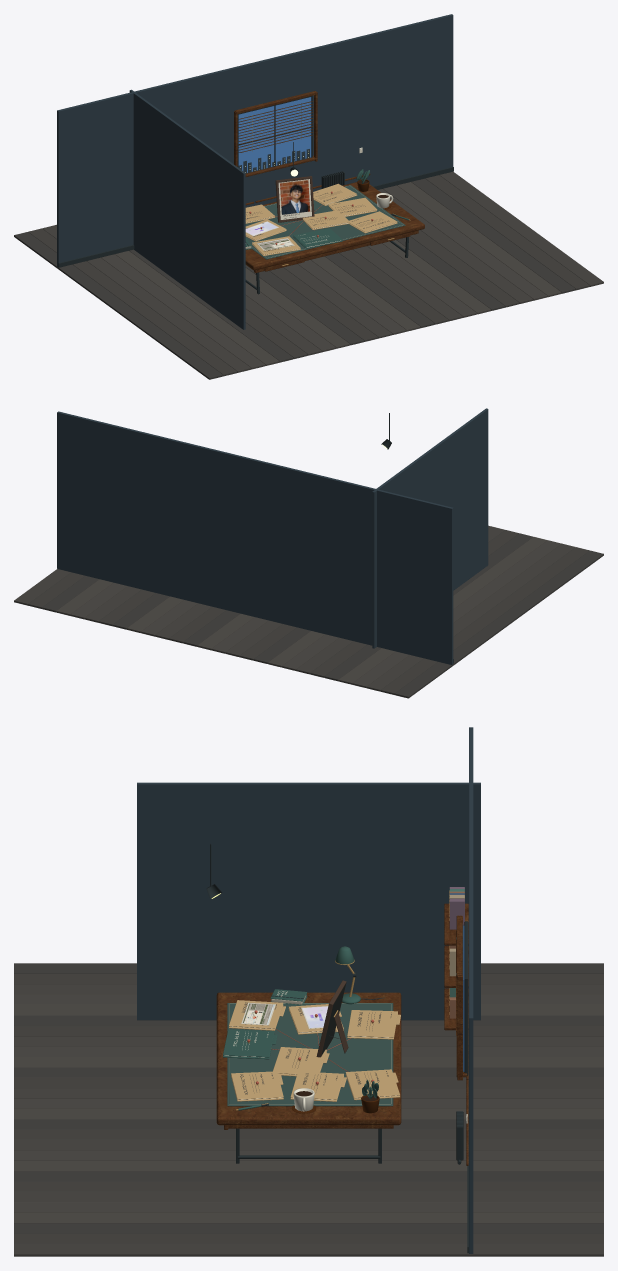
Rendered from on-my-desk.glb.
The picture shows the model from 3 angles, top to bottom: view 1: azimuth 30°, elevation 25°; view 2: azimuth 150°, elevation 25°; view 3: azimuth 270°, elevation 25°; orthographic projection. The views are drawn at different scales.
Parts seen in each view (by area): view 1: Room_Blue_plaster, Room_Floor_0, Room_Floor_2, Room_Floor_1, Room_Floor_4, Room_Floor_3, Window sky, Room_Walnut_end_grain, Room_Walnut, Room_Blackened_steel, Leather writing mat, Portrait photograph (+5 smaller); view 2: Room_Blue_plaster, Room_Floor_0, Room_Floor_1, Room_Floor_2, Room_Floor_3, Room_Floor_4; view 3: Room_Blue_plaster, Room_Floor_2, Room_Floor_1, Room_Floor_0, Room_Floor_4, Room_Floor_3, Room_Walnut, Leather writing mat, Room_Blackened_steel, Room_Walnut_end_grain, community_folder_cover, education_folder_cover (+6 smaller).
Boxes of the visible parts, box(x1,y1,x2,y2) form: Room_Blue_plaster: box(57, 14, 453, 329); Room_Floor_0: box(14, 178, 575, 379); Room_Floor_2: box(42, 171, 603, 372); Room_Floor_1: box(28, 175, 589, 376); Room_Floor_4: box(115, 182, 561, 365); Room_Floor_3: box(56, 185, 547, 369); Window sky: box(238, 97, 311, 172); Room_Walnut_end_grain: box(234, 91, 418, 273); Room_Walnut: box(245, 182, 424, 271); Room_Blackened_steel: box(58, 95, 453, 294); Leather writing mat: box(245, 185, 405, 259); Portrait photograph: box(280, 180, 310, 214); Room_Blue_plaster: box(57, 408, 488, 664); Room_Floor_0: box(42, 533, 603, 698); Room_Floor_1: box(28, 530, 589, 694); Room_Floor_2: box(14, 526, 575, 691); Room_Floor_3: box(70, 525, 561, 687); Room_Floor_4: box(56, 537, 547, 684); Room_Blue_plaster: box(137, 727, 480, 1253); Room_Floor_2: box(14, 984, 603, 1256); Room_Floor_1: box(14, 974, 603, 1243); Room_Floor_0: box(14, 963, 603, 1233); Room_Floor_4: box(14, 1005, 603, 1223); Room_Floor_3: box(14, 994, 603, 1212); Room_Walnut: box(216, 903, 468, 1125); Leather writing mat: box(227, 1003, 393, 1106); Room_Blackened_steel: box(206, 843, 468, 1253); Room_Walnut_end_grain: box(224, 915, 468, 1165); community_folder_cover: box(223, 1029, 274, 1057); education_folder_cover: box(347, 1010, 397, 1037).
Size of the model in its own units: 28 by 10.72 by 24.
33 materials, 5 textured.
